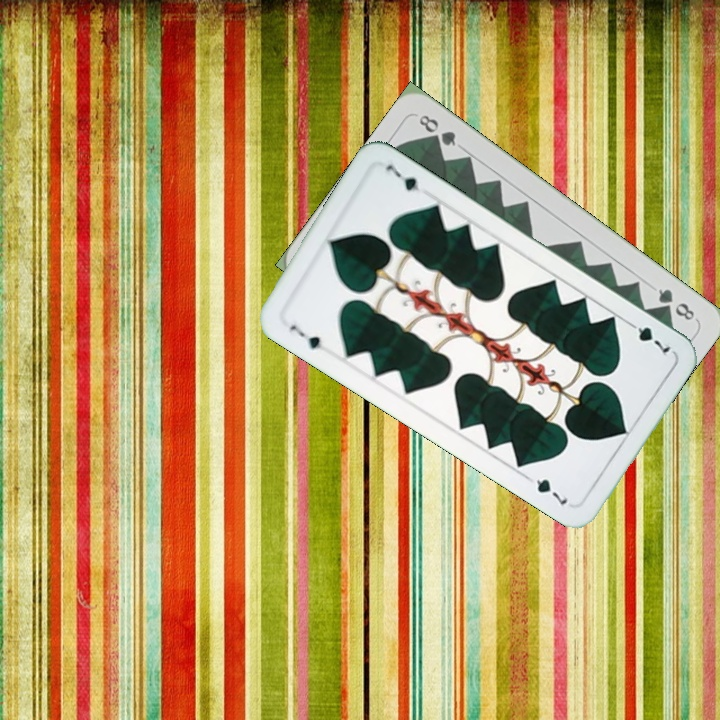G7: (622, 317, 674, 358), (286, 320, 324, 352)
G8: (654, 284, 698, 324)
